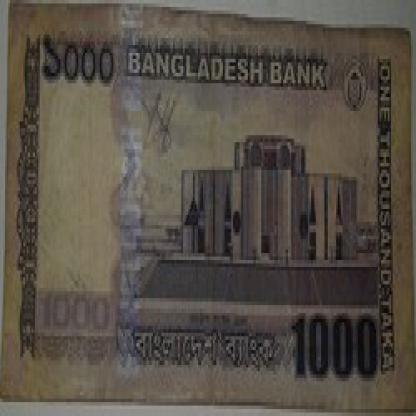One Thousand taka: (290, 305, 381, 388), (40, 31, 118, 94), (38, 288, 115, 340)
